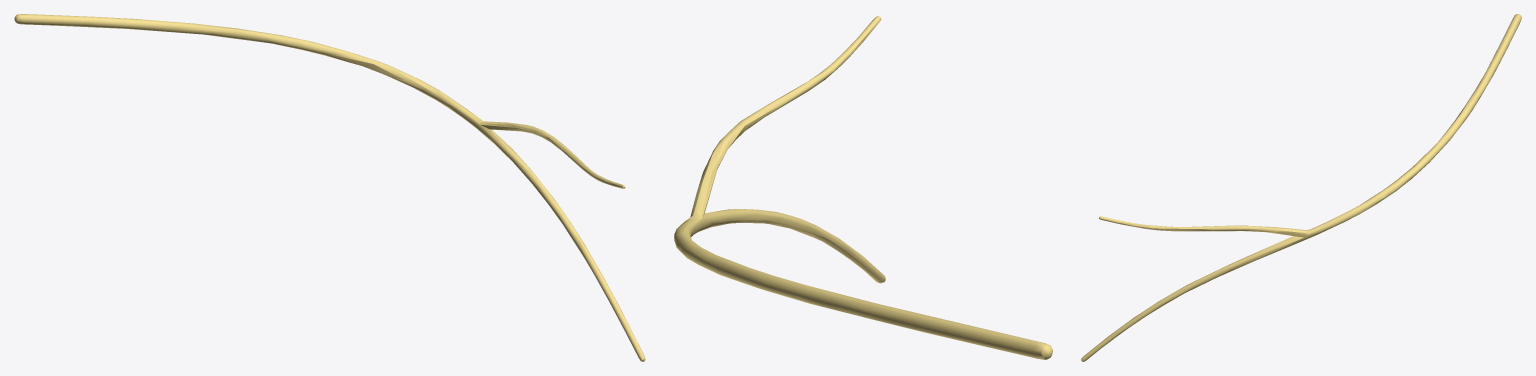
File: fma52786_fj4005.glb
3 renders of one model, left to right at view 1: azimuth 30°, elevation 25°; view 2: azimuth 150°, elevation 25°; view 3: azimuth 270°, elevation 25°, orthographic. The views are drawn at different scales.
Parts seen in each view (by area): view 1: FMA52786_FJ4005; view 2: FMA52786_FJ4005; view 3: FMA52786_FJ4005.
Boxes of the visible parts, x1=… form: FMA52786_FJ4005: x1=14, y1=14, x2=645, y2=361; FMA52786_FJ4005: x1=674, y1=16, x2=1052, y2=359; FMA52786_FJ4005: x1=1081, y1=14, x2=1521, y2=361.
Bounding box in the file's own units: 0.02 × 0.0126 × 0.025.
